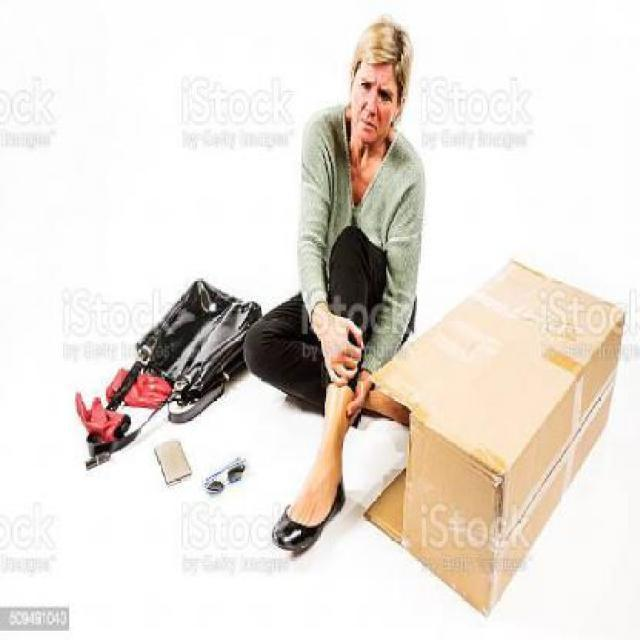box: (371, 254, 626, 615)
